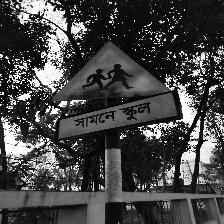School-in-front: (49, 40, 183, 142)
